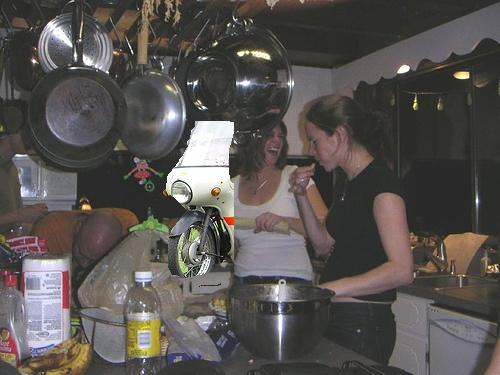tampered: (164, 122, 234, 287)
